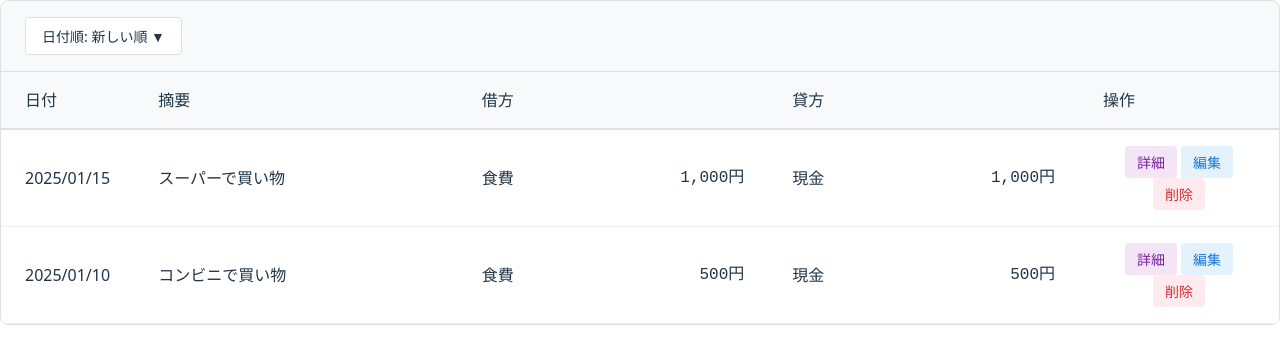
Test: TransactionList › toggles sort order when sort button is clicked
Toggle to oldest first
Click the button with aria-label "ソート順を切り替え" at (103, 36), box [25,17,182,55]
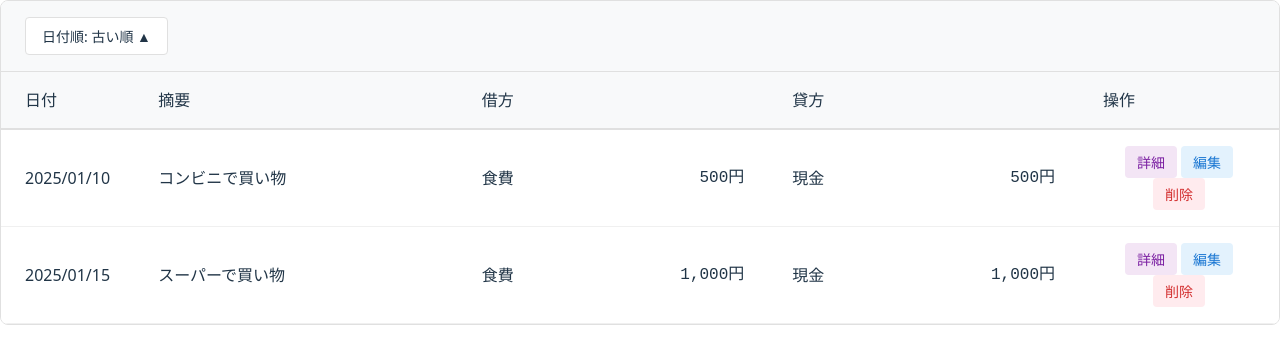
Expected: the text "コンビニで買い物" is shown, [134,129,458,226]
Expected: the button with aria-label "ソート順を切り替え" shows "古い順", [25,17,168,55]
